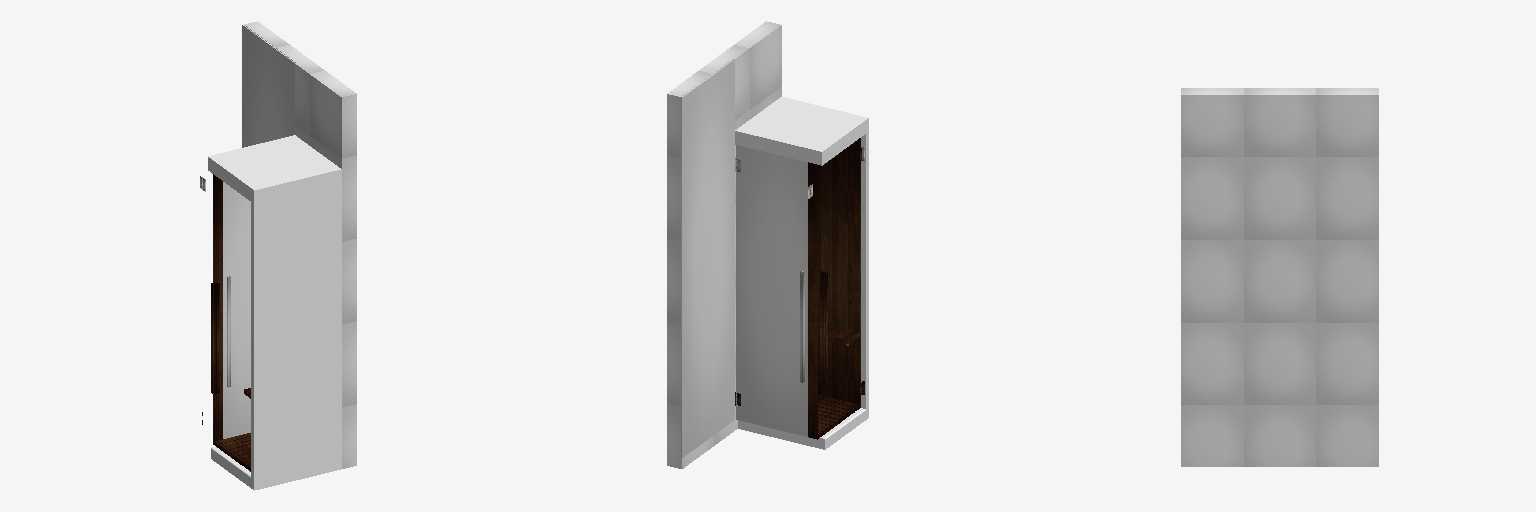
The picture shows the model from 3 angles: view 1: azimuth 30°, elevation 25°; view 2: azimuth 150°, elevation 25°; view 3: azimuth 270°, elevation 25°; orthographic projection.
Parts seen in each view (by area): view 1: bath:default1group11pasted__groupgrouppasted__polySurface3, bath:default1group11pasted__groupgroup3, bath:default1group11pasted__groupgrouppasted__polySurface80, bath:default1group11pasted__groupgrouppasted__polySurface5, bath:default1group11pasted__groupgrouppasted__polySurface86, bath:default1group11pasted__groupgrouppasted__polySurface957, bath:default1group11pasted__groupgrouppasted__polySurface2, bath:default1group11pasted__groupgrouppasted__polySurface959; view 2: bath:default1group11pasted__groupgrouppasted__polySurface86, bath:default1group11pasted__groupgrouppasted__polySurface80, bath:default1group11pasted__groupgroup3, bath:default1group11pasted__groupgrouppasted__polySurface110, bath:default1group11pasted__groupgrouppasted__polySurface5, bath:default1group11pasted__groupgrouppasted__polySurface957, bath:default1group11pasted__groupgrouppasted__polySurface3, bath:default1group11pasted__groupgrouppasted__polySurface2, bath:default1group11pasted__groupgrouppasted__polySurface61, bath:default1group11pasted__groupgrouppasted__polySurface959; view 3: bath:default1group11pasted__groupgroup3.
Boxes of the visible parts, x1,y1,x2,y2 form: bath:default1group11pasted__groupgrouppasted__polySurface3: [251, 183, 341, 490]; bath:default1group11pasted__groupgroup3: [244, 21, 356, 468]; bath:default1group11pasted__groupgrouppasted__polySurface80: [223, 182, 250, 438]; bath:default1group11pasted__groupgrouppasted__polySurface5: [208, 135, 341, 203]; bath:default1group11pasted__groupgrouppasted__polySurface86: [242, 25, 294, 147]; bath:default1group11pasted__groupgrouppasted__polySurface957: [213, 174, 222, 444]; bath:default1group11pasted__groupgrouppasted__polySurface2: [211, 447, 250, 487]; bath:default1group11pasted__groupgrouppasted__polySurface959: [211, 283, 215, 394]; bath:default1group11pasted__groupgrouppasted__polySurface86: [681, 59, 734, 457]; bath:default1group11pasted__groupgrouppasted__polySurface80: [736, 145, 807, 436]; bath:default1group11pasted__groupgroup3: [667, 21, 781, 468]; bath:default1group11pasted__groupgrouppasted__polySurface110: [818, 138, 860, 407]; bath:default1group11pasted__groupgrouppasted__polySurface5: [735, 97, 868, 165]; bath:default1group11pasted__groupgrouppasted__polySurface957: [808, 162, 817, 439]; bath:default1group11pasted__groupgrouppasted__polySurface3: [861, 132, 868, 419]; bath:default1group11pasted__groupgrouppasted__polySurface2: [738, 408, 865, 449]; bath:default1group11pasted__groupgrouppasted__polySurface61: [800, 271, 804, 382]; bath:default1group11pasted__groupgrouppasted__polySurface959: [823, 272, 827, 382]; bath:default1group11pasted__groupgroup3: [1181, 88, 1378, 466].
Size of the model in its own units: 10.03 by 34.59 by 16.74.
7 materials, 3 textured.